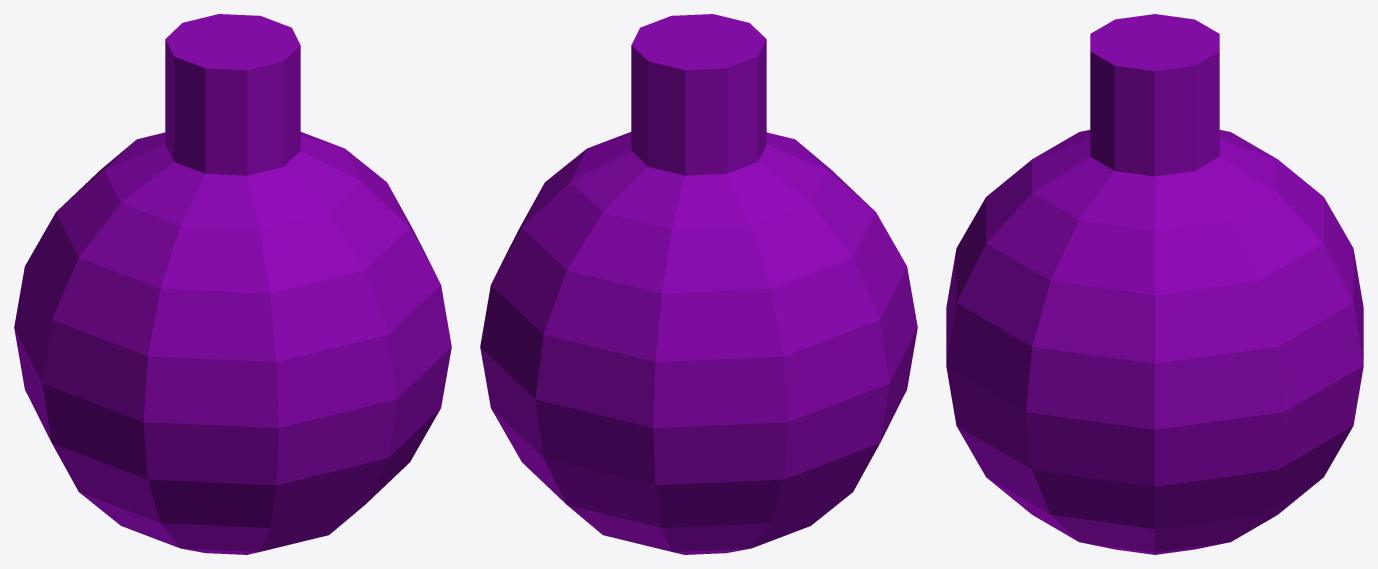
The model's file is granada.fbx.
3 views of the same model, side by side, from view 1: azimuth 30°, elevation 25°; view 2: azimuth 150°, elevation 25°; view 3: azimuth 270°, elevation 25° (orthographic).
Visible parts, largest first — view 1: pSphere1; view 2: pSphere1; view 3: pSphere1.
Boxes of the visible parts, x1,y1,x2,y2 form: pSphere1: (14,14,451,554); pSphere1: (480,14,917,554); pSphere1: (946,14,1363,554).
Size of the model in its own units: 2 by 2.43 by 1.9.
